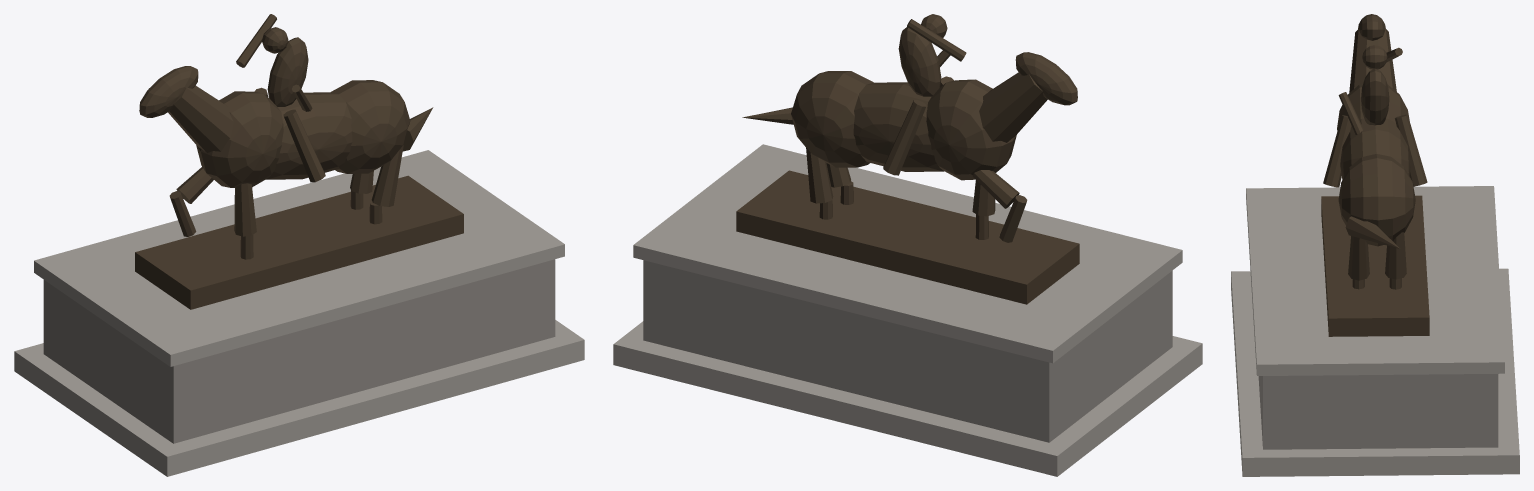
The model's file is physical_energy_statue.glb.
3 views of the same model, side by side, from view 1: azimuth 30°, elevation 25°; view 2: azimuth 150°, elevation 25°; view 3: azimuth 270°, elevation 25° (orthographic). The views are drawn at different scales.
Size of the model in its own units: 5.58 by 4.36 by 3.43.
